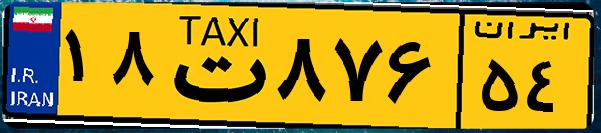1: (57, 26, 110, 100)
4: (525, 38, 570, 115)
5: (475, 38, 525, 113)
6: (385, 28, 445, 110)
7: (330, 28, 385, 110)
8: (270, 28, 330, 110), (110, 28, 158, 98)
ت: (158, 12, 270, 120)
